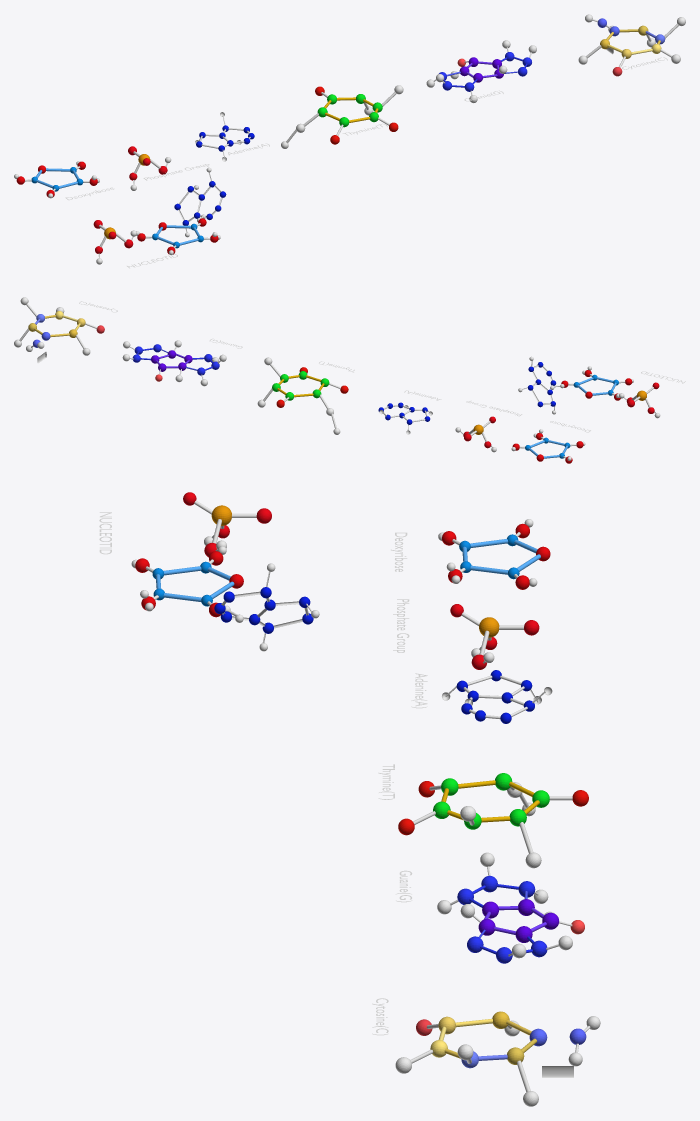
The model's file is DNA_Elements.glb.
3 views of the same model, one above another, from view 1: azimuth 30°, elevation 25°; view 2: azimuth 150°, elevation 25°; view 3: azimuth 270°, elevation 25° (orthographic). The views are drawn at different scales.
Visible parts, largest first — view 1: Nucleotide, Guanine_G, Thymine_T, Cytosine_C, Deoxyribose_Sugar, Adenine_A, Phosphate_Group; view 2: Nucleotide, Guanine_G, Cytosine_C, Thymine_T, Deoxyribose_Sugar, Adenine_A, Phosphate_Group; view 3: Nucleotide, Guanine_G, Cytosine_C, Thymine_T, Deoxyribose_Sugar, Adenine_A, Phosphate_Group.
Boxes of the visible parts, box(x1,y1,x2,y2) form: Nucleotide: box(93, 167, 226, 264); Guanine_G: box(426, 40, 536, 103); Thymine_T: box(281, 85, 403, 148); Cytosine_C: box(578, 14, 685, 76); Deoxyribose_Sugar: box(14, 161, 99, 198); Adenine_A: box(195, 112, 254, 161); Phosphate_Group: box(128, 146, 171, 190); Nucleotide: box(518, 356, 660, 418); Guanine_G: box(122, 340, 226, 386); Cytosine_C: box(14, 297, 104, 363); Thymine_T: box(257, 357, 348, 434); Deoxyribose_Sugar: box(511, 429, 585, 463); Adenine_A: box(378, 402, 432, 434); Phosphate_Group: box(455, 416, 496, 452); Nucleotide: box(131, 492, 319, 651); Guanine_G: box(437, 852, 584, 963); Cytosine_C: box(395, 1011, 600, 1106); Thymine_T: box(398, 773, 588, 868); Deoxyribose_Sugar: box(438, 519, 550, 589); Adenine_A: box(442, 670, 552, 723); Phosphate_Group: box(450, 604, 539, 669).
Size of the model in its own units: 0.5832 by 0.0605 by 0.2202.
